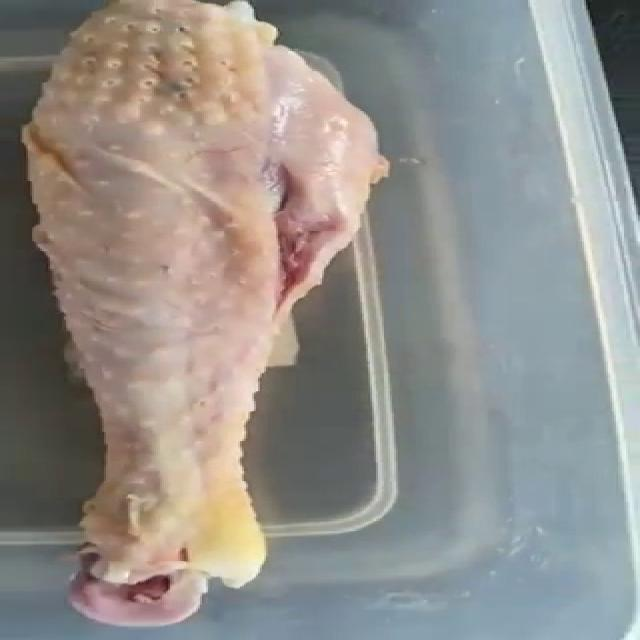chicken: (19, 0, 391, 627)
